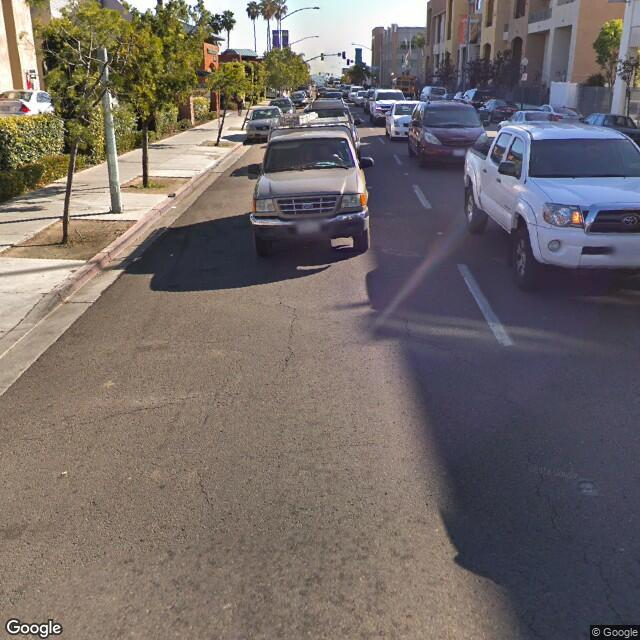road line: (409, 175, 477, 299)
